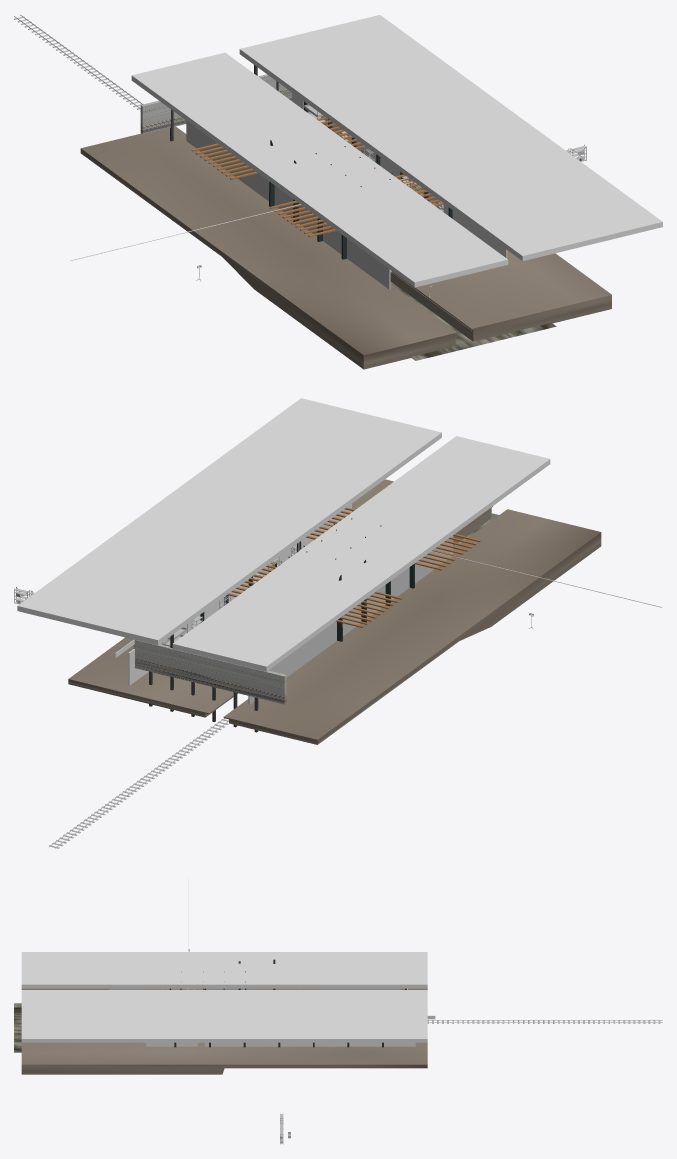
Rendered from warehouse.fbx.
3 renders of one model, top to bottom at view 1: azimuth 30°, elevation 25°; view 2: azimuth 150°, elevation 25°; view 3: azimuth 270°, elevation 25°, orthographic. The views are drawn at different scales.
Visible parts, largest first — view 1: Cube.087, Cube, Cube.002, Cube.005, Plane, Cube.012, Cube.086, Object_2, Cube.040; view 2: Cube.087, Cube, Cube.005, Cube.002, Object_2, Cube.012, Cube.086, Cube.040; view 3: Cube.087, Cube, Cube.040, Object_2, Cube.002.
Boxes of the visible parts, bbox=[...] form: Cube.087: bbox=[131, 15, 662, 287]; Cube: bbox=[80, 126, 611, 369]; Cube.002: bbox=[186, 121, 390, 289]; Cube.005: bbox=[140, 74, 291, 134]; Plane: bbox=[390, 282, 556, 360]; Cube.012: bbox=[191, 117, 365, 179]; Cube.086: bbox=[270, 174, 444, 237]; Object_2: bbox=[14, 14, 143, 111]; Cube.040: bbox=[289, 93, 437, 203]; Cube.087: bbox=[17, 398, 550, 671]; Cube: bbox=[68, 479, 601, 744]; Cube.005: bbox=[133, 640, 286, 704]; Cube.002: bbox=[248, 535, 453, 704]; Object_2: bbox=[49, 718, 228, 848]; Cube.012: bbox=[227, 565, 402, 627]; Cube.086: bbox=[306, 507, 480, 570]; Cube.040: bbox=[128, 554, 282, 685]; Cube.087: bbox=[21, 952, 427, 1042]; Cube: bbox=[21, 988, 427, 1074]; Cube.040: bbox=[205, 1042, 415, 1046]; Object_2: bbox=[427, 1020, 662, 1023]; Cube.002: bbox=[109, 988, 400, 989].
Size of what is drawn, in the model's own units: 822 by 1109 by 137.
